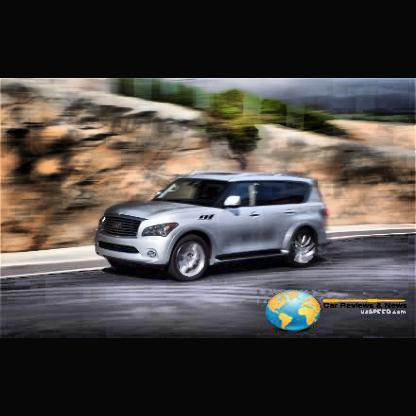Infiniti QX56 SUV 2011: (96, 174, 333, 280)
